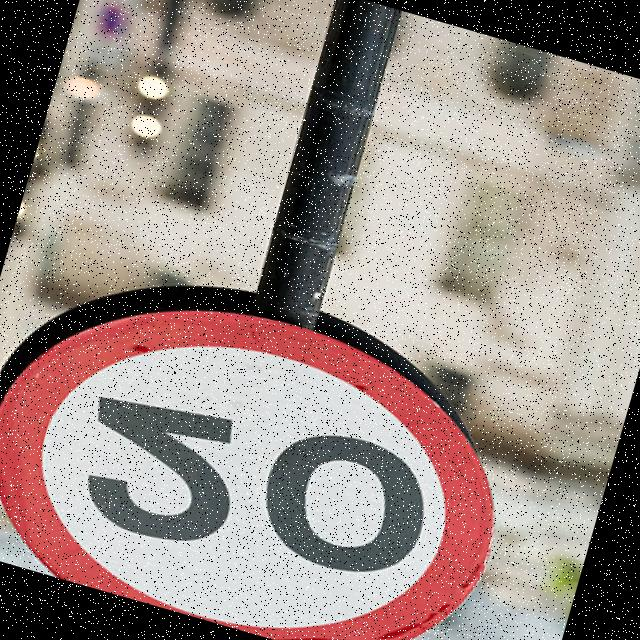speed_limit_20: (0, 221, 550, 640)
